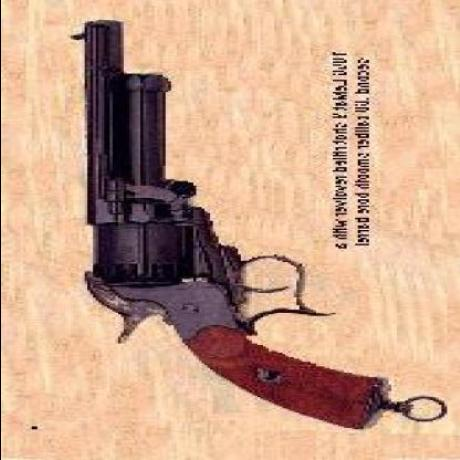weapon: (63, 17, 445, 434)
